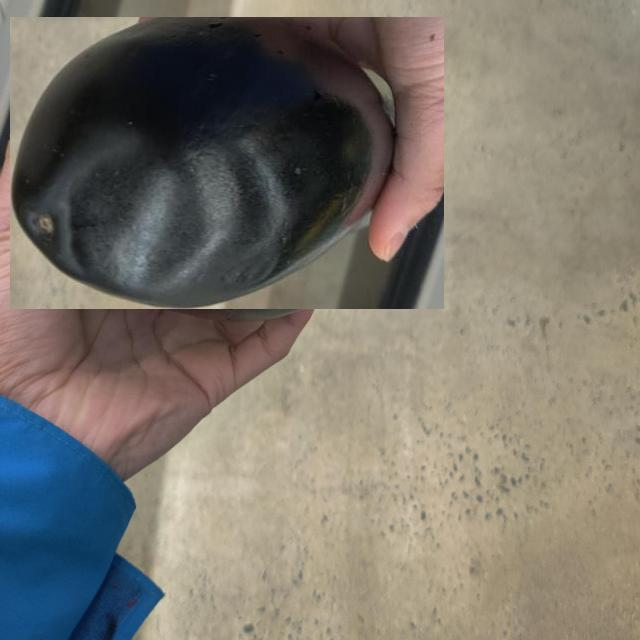Eggplant: (9, 17, 444, 309)
